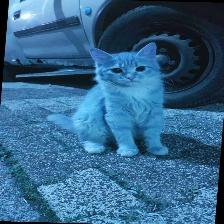kedo: (47, 42, 174, 155)
